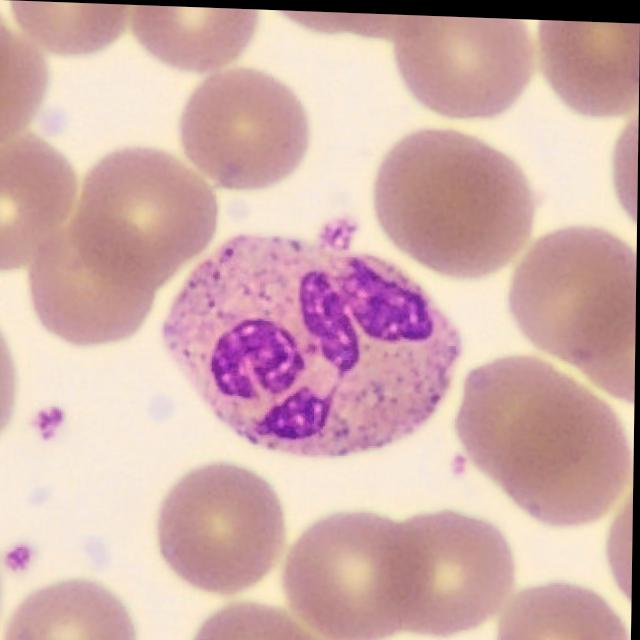Neutrofilo segmentado: (162, 218, 464, 458)
